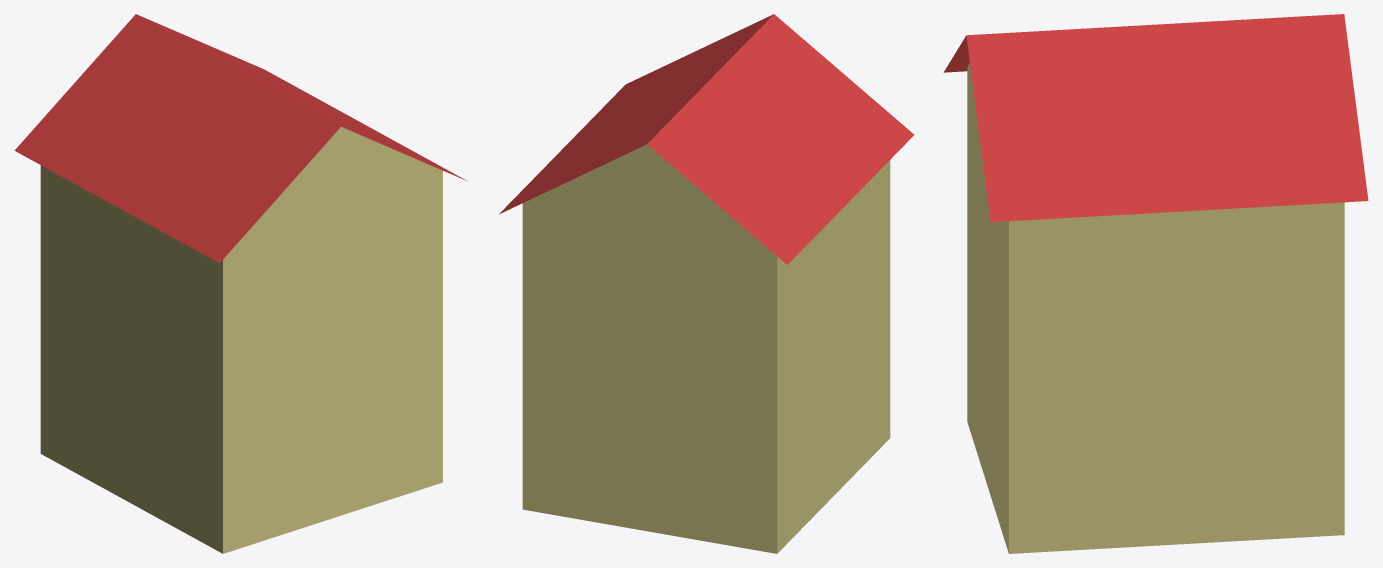
3 views of the same model, side by side, from view 1: azimuth 30°, elevation 25°; view 2: azimuth 150°, elevation 25°; view 3: azimuth 270°, elevation 25° (orthographic). The views are drawn at different scales.
Size of the model in its own units: 9.47 by 9.95 by 11.68.
